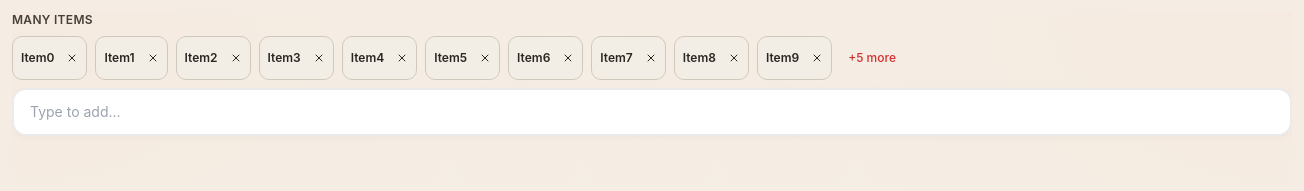
Test: ChipInput › expands to show all items when overflow is clicked
The image size is (1304, 191).
# Click the "+5 more" button
Click the button "+5 more" at (872, 58), box [840,36,904,80]
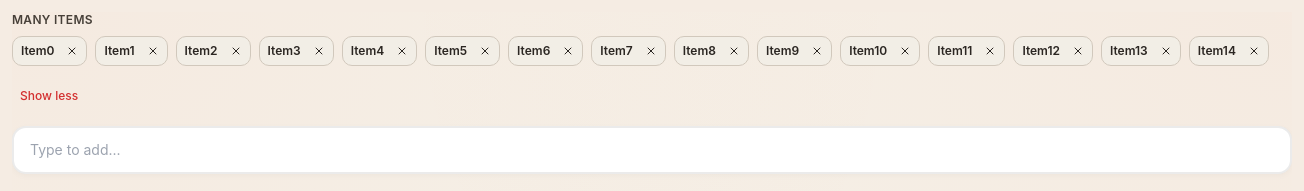
Expected: the button "Show less" is shown, [12,74,86,118]
Expected: the text "Item10" is shown, [840,36,920,66]
Expected: the text "Item14" is shown, [1189,36,1269,66]
